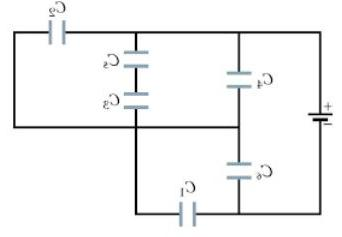Capacitor: (222, 59, 253, 101)
